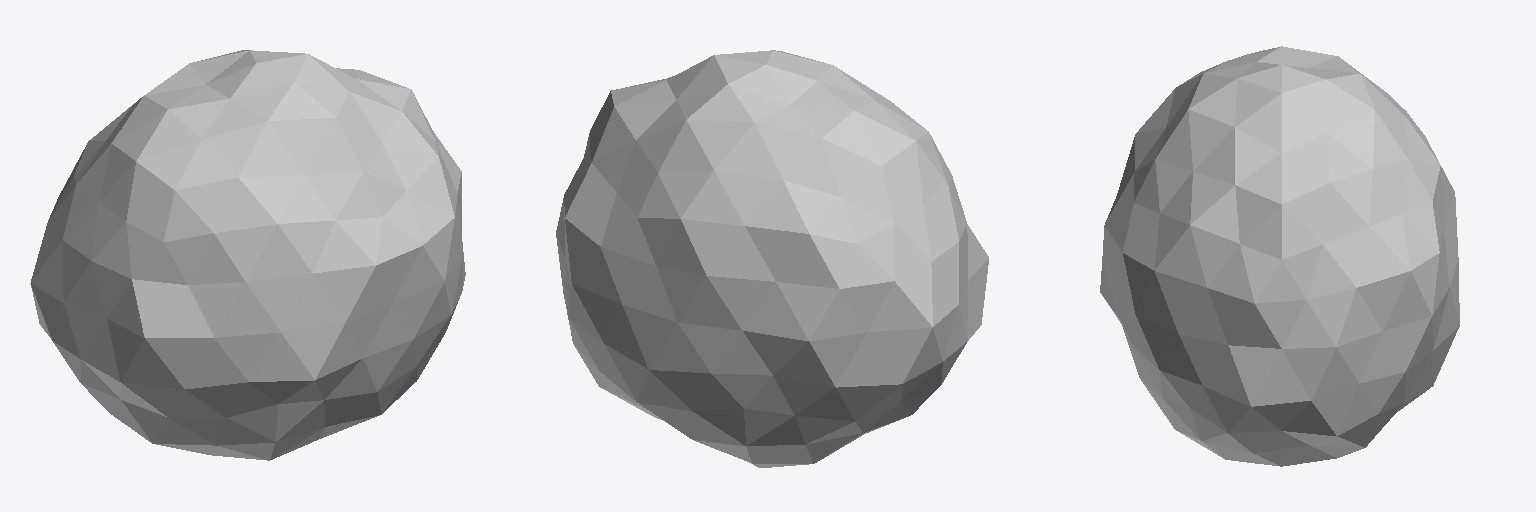
Rendered from asteroid_4.obj.
3 views of the same model, side by side, from view 1: azimuth 30°, elevation 25°; view 2: azimuth 150°, elevation 25°; view 3: azimuth 270°, elevation 25° (orthographic).
Visible parts, largest first — view 1: Asteroid_4; view 2: Asteroid_4; view 3: Asteroid_4.
Part boxes in pixels (left/top/right/bottom): Asteroid_4: left=30, top=50, right=465, bottom=460; Asteroid_4: left=556, top=50, right=988, bottom=467; Asteroid_4: left=1100, top=46, right=1459, bottom=466.
Size of the model in its own units: 2.51 by 2.35 by 2.